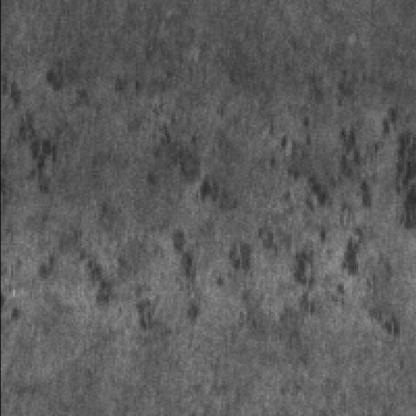rolled-in_scale: (224, 106, 410, 345), (2, 64, 218, 200), (0, 225, 198, 337)
